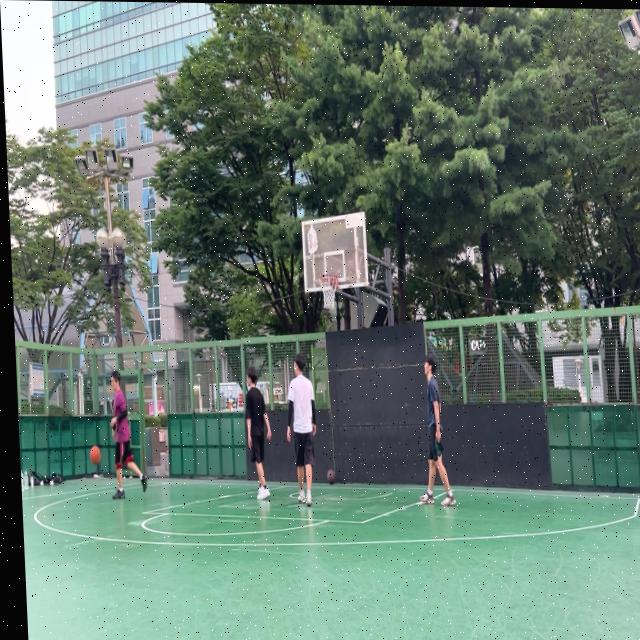basketball: (90, 445, 101, 465), (327, 468, 336, 485)
hoop: (318, 275, 339, 310)
